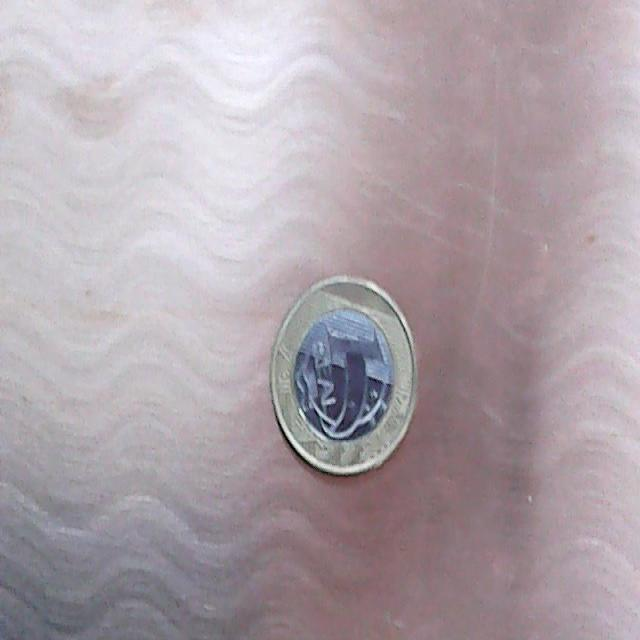1 real: (258, 260, 430, 488)
